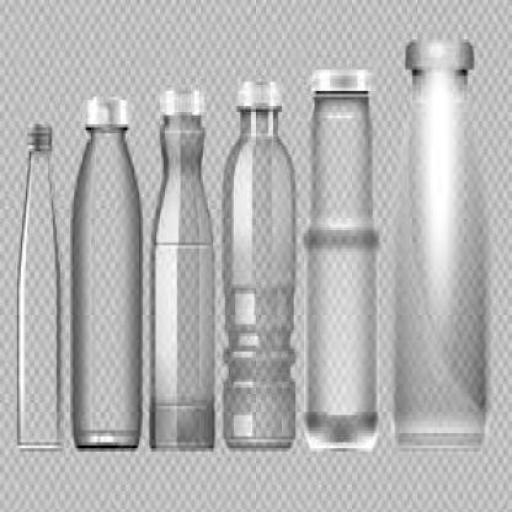glass: (388, 66, 484, 446), (300, 90, 378, 448), (220, 106, 296, 448), (69, 124, 143, 452), (148, 115, 215, 451), (15, 149, 60, 448)
metal: (404, 36, 471, 64), (84, 94, 128, 130), (311, 66, 367, 94), (236, 76, 280, 106), (163, 84, 203, 115), (24, 118, 50, 149)
